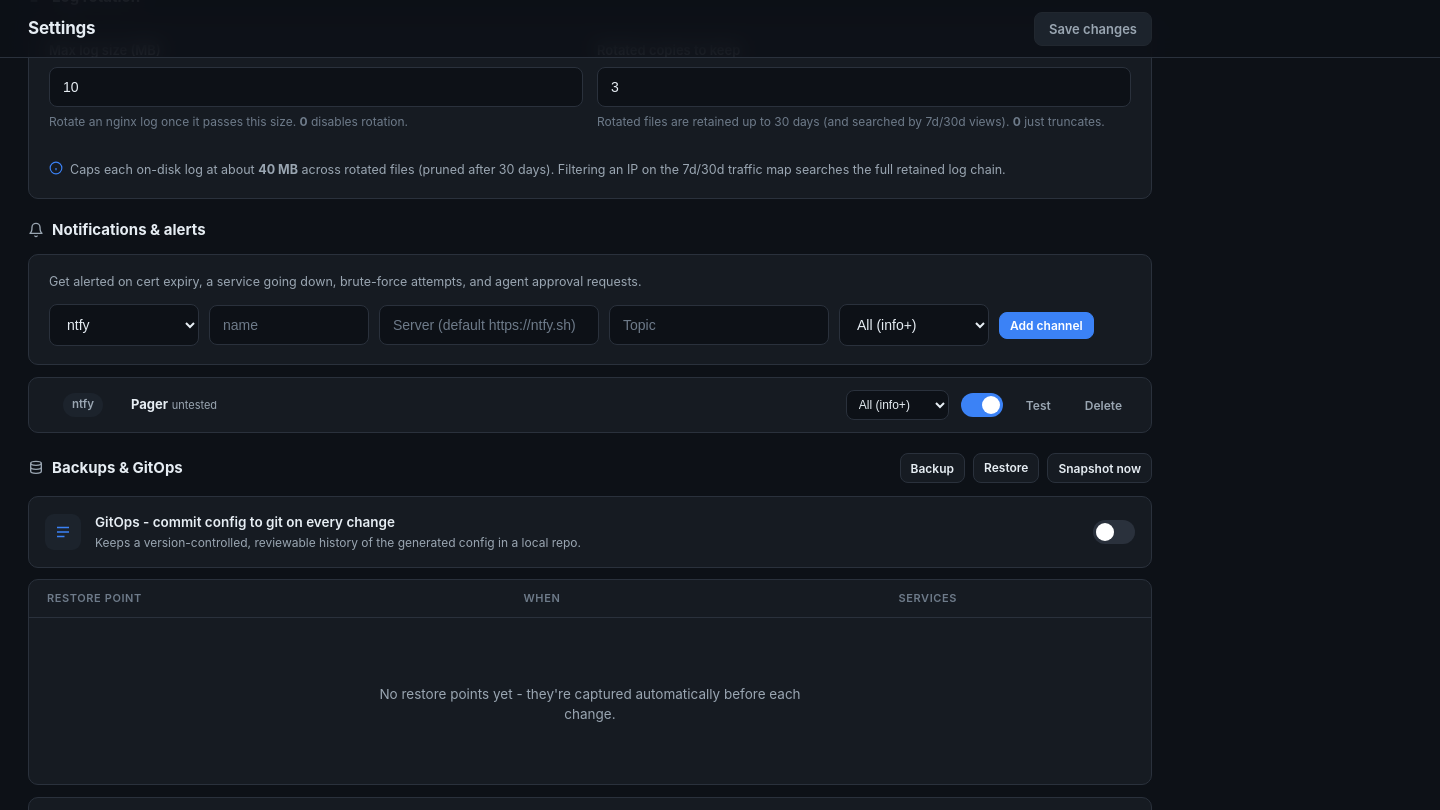
Test: SettingsPage - accessible controls & microcopy (fix 6) › maps a channel test 'ok' status to a readable sentence
(page scrolled)
Click the button "Test".
click(1038, 405)  # box x1=1015 y1=392 x2=1062 y2=418
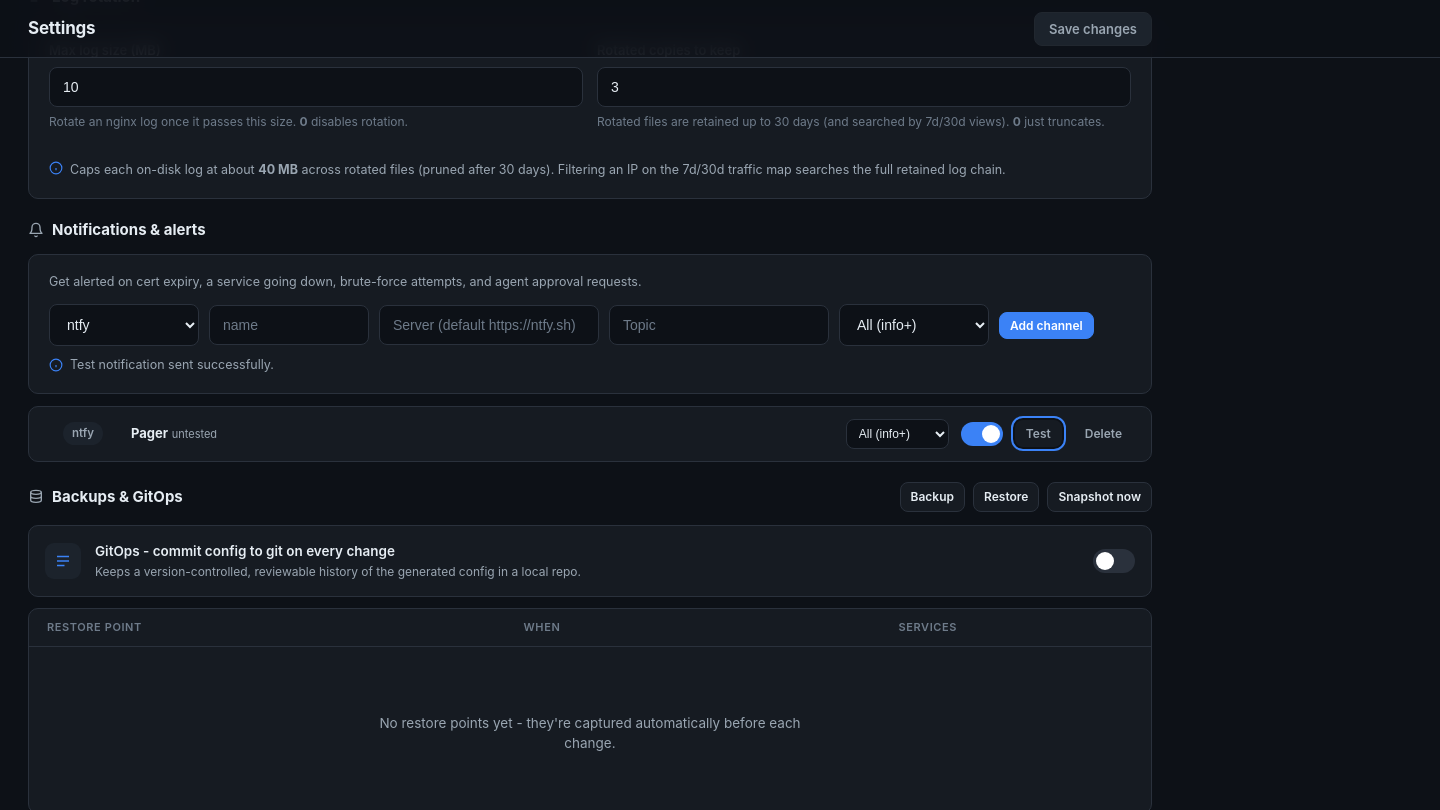
Now the text "Test notification sent successfully." is shown, box x1=49 y1=357 x2=274 y2=372
